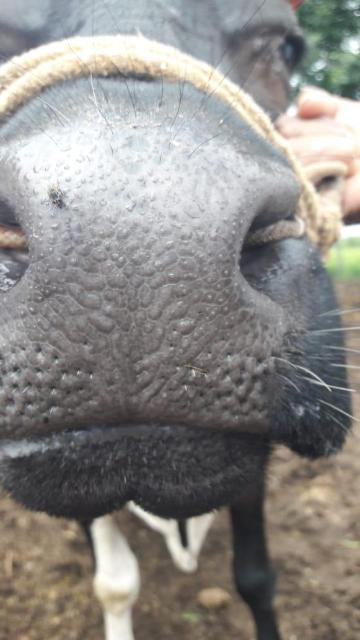Muzzle: (16, 143, 250, 414)
